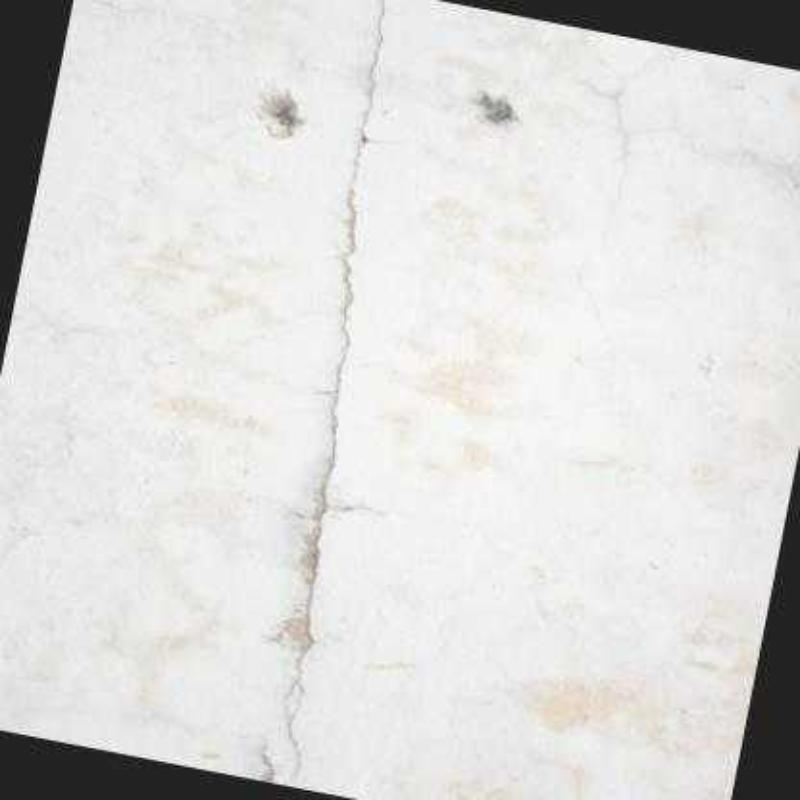crack: (279, 2, 391, 788)
